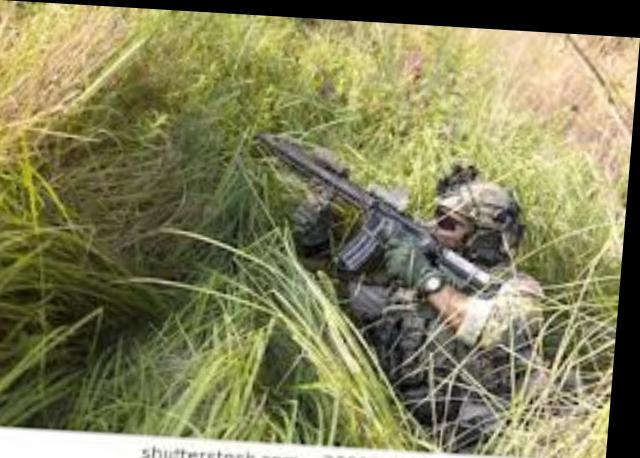other: (370, 158, 559, 430)
